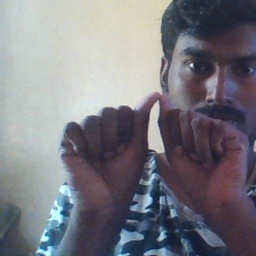A: (58, 90, 251, 204)
